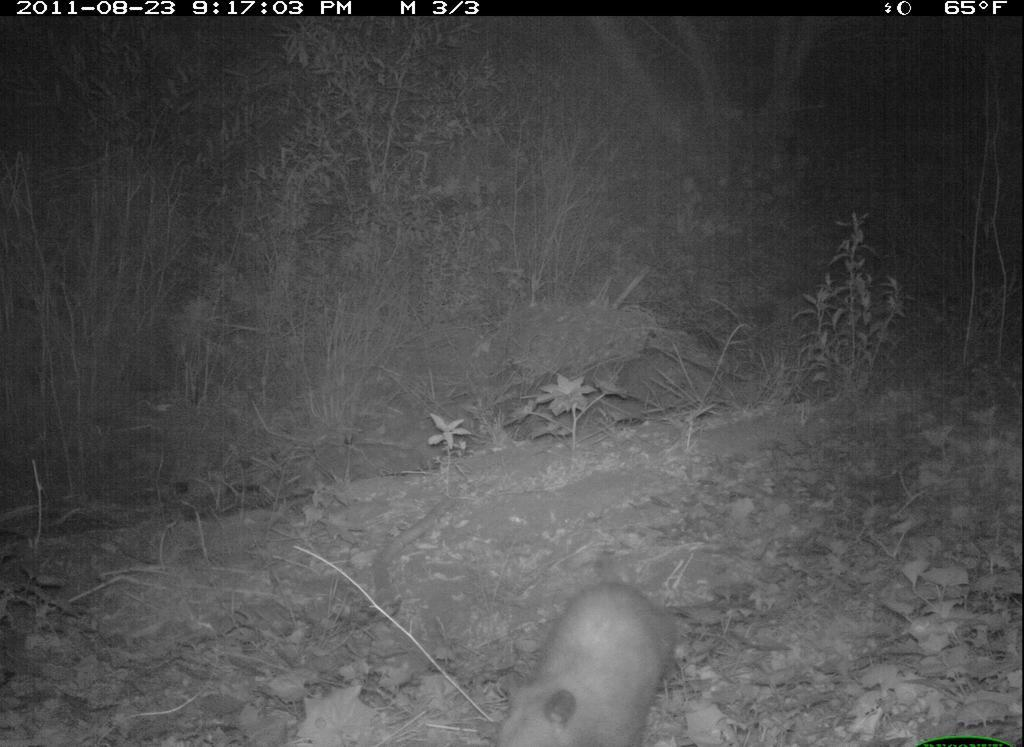opossum: (489, 561, 699, 747)
